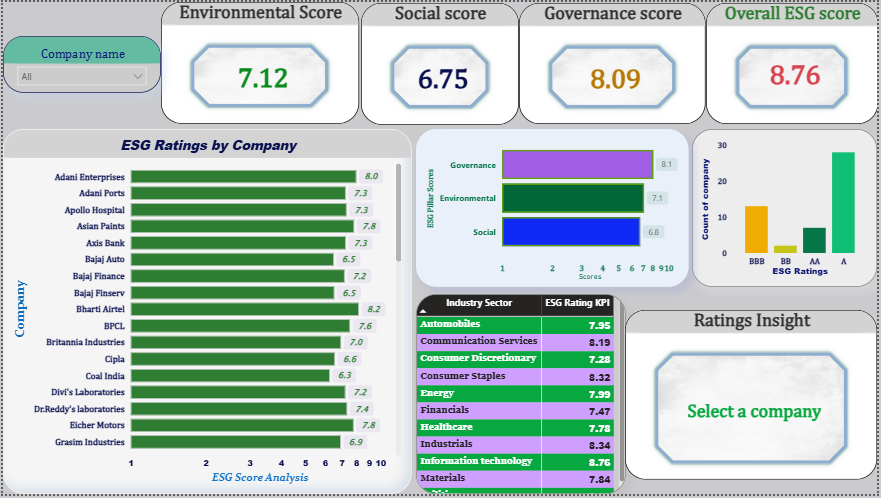

What the dashboard file says about the page in this screenshot:
{"tool":"powerbi","page":{"name":"Overview page","canvas":[1280,720],"ordinal":0},"visuals":[{"type":"clusteredBarChart","title":"ESG Ratings  by Company","fields":{"Category":["ESG Ratings.company"],"Y":["ESG Ratings.ESG Rating KPI"]},"box":[0,186.1,598,533.7],"z":0},{"type":"cardVisual","title":"Governance score","fields":{"Data":["ESG Ratings.Avg Governance"]},"box":[755.5,0.9,273.1,177.3],"z":1000},{"type":"cardVisual","title":"Social score","fields":{"Data":["ESG Ratings.Avg Social"]},"box":[524.3,0.9,231.4,177.6],"z":2000},{"type":"cardVisual","title":"Environmental Score","fields":{"Data":["ESG Ratings.Avg Environmental"]},"box":[231.5,0,289.7,177.8],"z":3000},{"type":"cardVisual","title":"Overall ESG score","fields":{"Data":["ESG Ratings.ESG Rating KPI"]},"box":[1028.6,0.9,251.8,177.3],"z":4000},{"type":"slicer","title":"Company name","fields":{"Values":["ESG Ratings.company"]},"box":[0,49.1,231.5,82.8],"z":5000},{"type":"clusteredColumnChart","fields":{"Category":["ESG Ratings.ESG_rating"],"Y":["CountNonNull(ESG Ratings.company)"]},"box":[1008.9,186.1,271.1,231.4],"z":7000},{"type":"clusteredBarChart","fields":{"Category":["ESG Pillars.Pillar"],"Y":["ESG Ratings.ESG Pillar Score"]},"box":[604.6,186.1,398.6,231.4],"z":8000},{"type":"pivotTable","fields":{"Rows":["ESG Ratings.sector"],"Values":["ESG Ratings.ESG Rating KPI"]},"box":[604,427.7,306.6,292.8],"z":9000},{"type":"cardVisual","title":"Ratings Insight","fields":{"Data":["ESG Ratings.Rating Insight"]},"box":[910.6,450.7,369.4,248.3],"z":9001}]}

Visuals, with their boxes in screenshot pixels (x1, y1, x2, y2), scaled from the page's 1280x720 canvas onto the 881x498 screenshot:
"ESG Ratings  by Company" clusteredBarChart: (x1=0, y1=129, x2=412, y2=497)
"Governance score" cardVisual: (x1=520, y1=1, x2=708, y2=123)
"Social score" cardVisual: (x1=361, y1=1, x2=520, y2=123)
"Environmental Score" cardVisual: (x1=159, y1=0, x2=359, y2=123)
"Overall ESG score" cardVisual: (x1=708, y1=1, x2=880, y2=123)
"Company name" slicer: (x1=0, y1=34, x2=159, y2=91)
clusteredColumnChart - ESG Ratings.ESG_rating x CountNonNull(ESG Ratings.company): (x1=694, y1=129, x2=880, y2=289)
clusteredBarChart - ESG Pillars.Pillar x ESG Ratings.ESG Pillar Score: (x1=416, y1=129, x2=690, y2=289)
pivotTable - ESG Ratings.sector x ESG Ratings.ESG Rating KPI: (x1=416, y1=296, x2=627, y2=497)
"Ratings Insight" cardVisual: (x1=627, y1=312, x2=880, y2=483)
